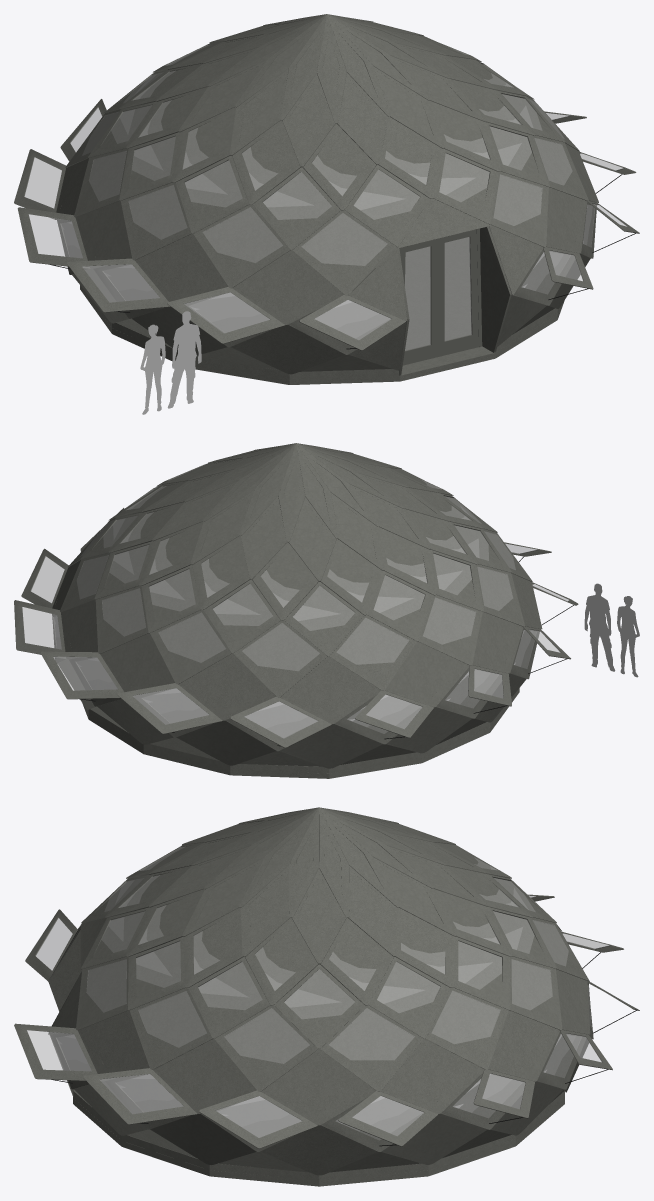
Rendered from zomes-500-draco.glb.
3 views of the same model, one above another, from view 1: azimuth 30°, elevation 25°; view 2: azimuth 150°, elevation 25°; view 3: azimuth 270°, elevation 25° (orthographic). The views are drawn at different scales.
Parts seen in each view (by area): view 1: entry_M14_center, foundation, panel-M14-D-1, panel-M14-E-1, window-glass-M14-C-3_open, window-glass-M14-E-1, panel-M14-E-2, window-glass-M14-C-2_open, window-glass-M14-E-2, panel-M14-D-2, window-glass-M14-C-1_open, window-glass-M14-F-2 (+90 smaller); view 2: entry_M14_center, panel-M14-E-6, panel-M14-D-5, panel-M14-D-6, panel-M14-E-5, window-glass-M14-C-7_open, window-glass-M14-C-8_open, window-glass-M14-E-6, panel-M14-E-7, window-glass-M14-C-6_open, window-glass-M14-E-5, panel-M14-D-4 (+97 smaller); view 3: entry_M14_center, panel-M14-D-10, panel-M14-E-11, panel-M14-E-10, window-glass-M14-C-12_open, panel-M14-D-9, window-glass-M14-C-11_open, window-glass-M14-E-10, panel-M14-D-11, window-glass-M14-E-11, window-glass-M14-C-13_open, panel-M14-E-12 (+99 smaller).
Part boxes in pixels (left/top/right/bottom): entry_M14_center: left=72, top=198, right=590, bottom=379; foundation: left=80, top=237, right=564, bottom=384; panel-M14-D-1: left=234, top=250, right=343, bottom=324; panel-M14-E-1: left=299, top=213, right=395, bottom=294; window-glass-M14-C-3_open: left=67, top=258, right=170, bottom=312; window-glass-M14-E-1: left=292, top=210, right=396, bottom=295; panel-M14-E-2: left=196, top=206, right=289, bottom=287; window-glass-M14-C-2_open: left=167, top=287, right=284, bottom=343; window-glass-M14-E-2: left=193, top=204, right=290, bottom=288; panel-M14-D-2: left=136, top=233, right=228, bottom=301; window-glass-M14-C-1_open: left=299, top=294, right=405, bottom=350; window-glass-M14-F-2: left=252, top=167, right=341, bottom=249; entry_M14_center: left=58, top=659, right=526, bottom=773; panel-M14-E-6: left=238, top=623, right=327, bottom=697; panel-M14-D-5: left=281, top=656, right=380, bottom=723; panel-M14-D-6: left=180, top=653, right=275, bottom=720; panel-M14-E-5: left=333, top=618, right=416, bottom=690; window-glass-M14-C-7_open: left=118, top=683, right=222, bottom=733; window-glass-M14-C-8_open: left=40, top=651, right=123, bottom=701; window-glass-M14-E-6: left=233, top=620, right=327, bottom=697; panel-M14-E-7: left=151, top=613, right=231, bottom=683; window-glass-M14-C-6_open: left=230, top=696, right=331, bottom=747; window-glass-M14-E-5: left=329, top=615, right=416, bottom=690; panel-M14-D-4: left=385, top=641, right=468, bottom=706; entry_M14_center: left=48, top=917, right=588, bottom=1180; panel-M14-D-10: left=263, top=1049, right=376, bottom=1124; panel-M14-E-11: left=217, top=1005, right=317, bottom=1091; panel-M14-E-10: left=329, top=1009, right=423, bottom=1091; window-glass-M14-C-12_open: left=83, top=1068, right=197, bottom=1124; panel-M14-D-9: left=380, top=1038, right=484, bottom=1113; window-glass-M14-C-11_open: left=199, top=1090, right=317, bottom=1148; window-glass-M14-E-10: left=320, top=1005, right=423, bottom=1091; panel-M14-D-11: left=154, top=1039, right=256, bottom=1113; window-glass-M14-E-11: left=214, top=1005, right=317, bottom=1091; window-glass-M14-C-13_open: left=14, top=1023, right=101, bottom=1083; panel-M14-E-12: left=135, top=988, right=212, bottom=1069.
Bounding box in the file's own units: 10.87 × 5.03 × 10.45.
9 materials, 4 textured.
